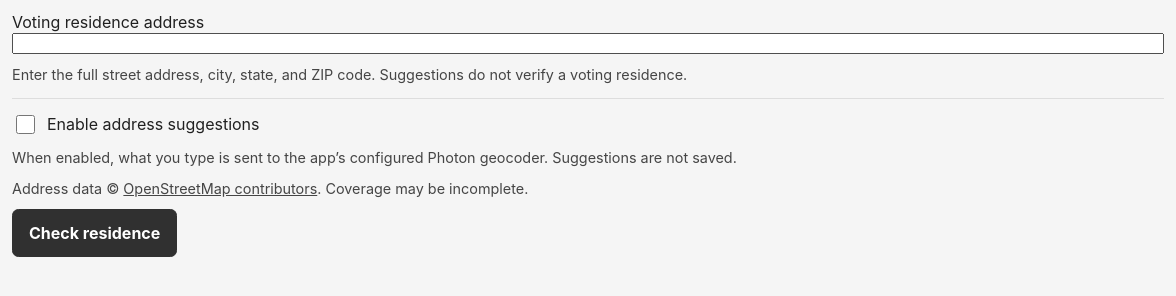
Test: address suggestions › dismisses the dropdown on Escape without reopening for the same request
The width and height of the screenshot is (1176, 296).
Click the checkbox labelled "Enable address suggestions": (26, 124) [16,115,35,134]
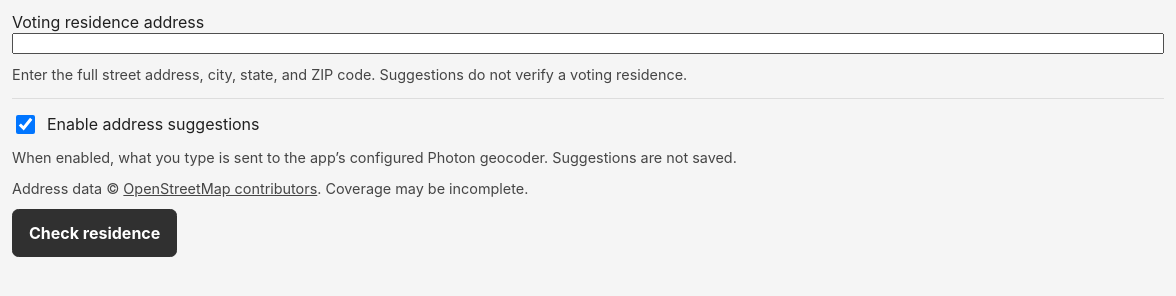
In the dropdown labelled "Voting residence address": (588, 44) [12,33,1164,54], type "123 Main"
Wait 500 ms
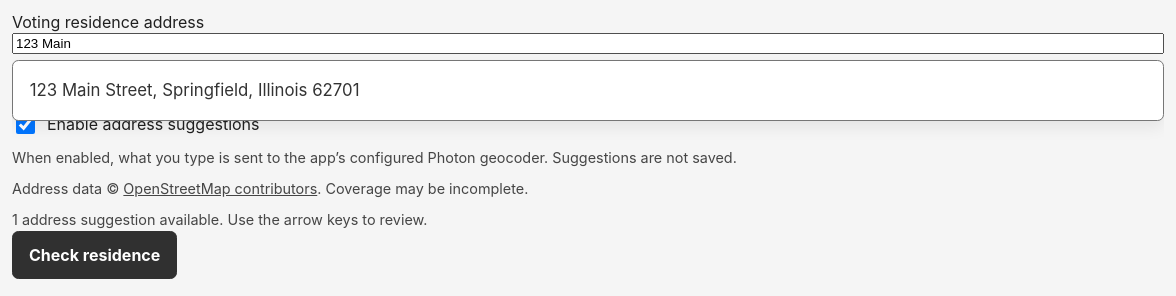
Press Escape in the dropdown, box [12,33,1164,54]
Wait 500 ms
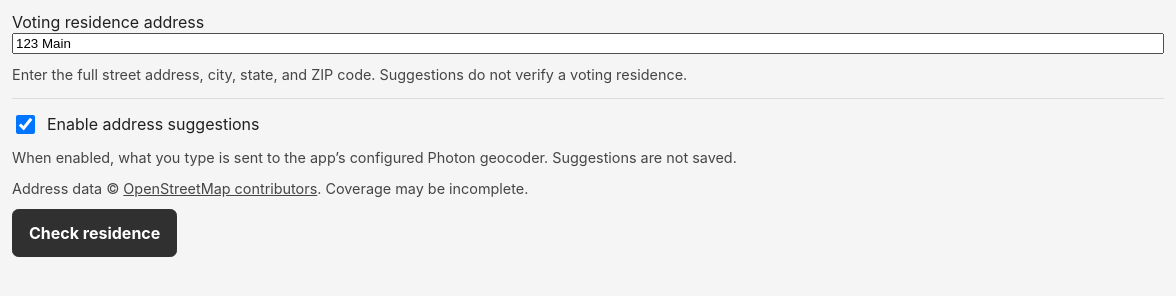
Expected: the list is gone
